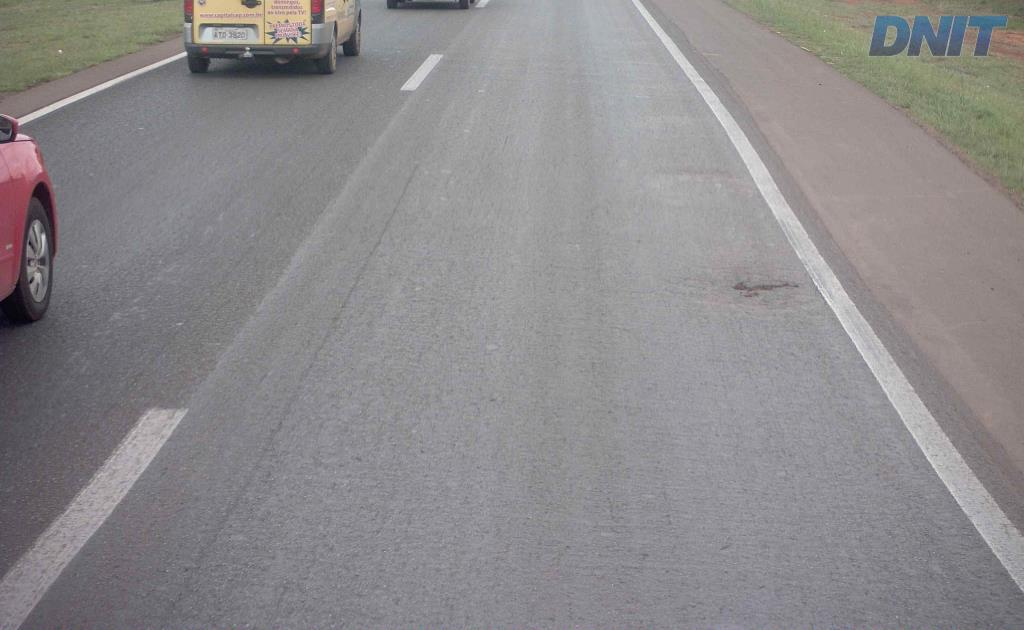pothole: (732, 279, 799, 298)
